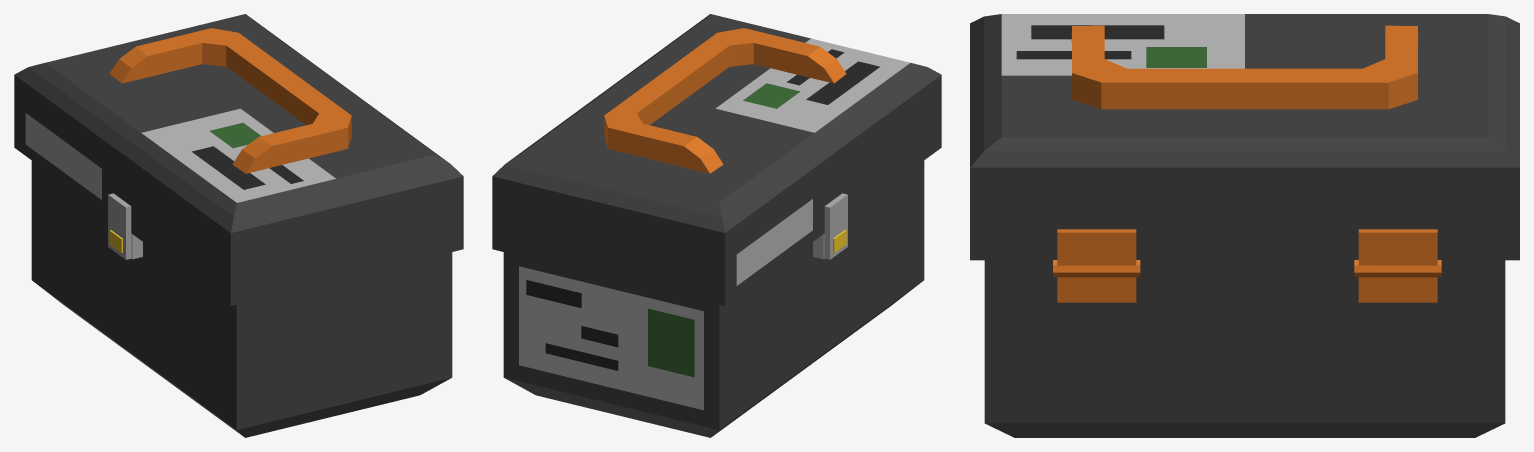
The model's file is SM_toolbox.gltf.
3 views of the same model, side by side, from view 1: azimuth 30°, elevation 25°; view 2: azimuth 150°, elevation 25°; view 3: azimuth 270°, elevation 25° (orthographic). The views are drawn at different scales.
Visible parts, largest first — view 1: SM_toolbox; view 2: SM_toolbox; view 3: SM_toolbox.
Boxes of the visible parts, left/top/right/bottom form: SM_toolbox: left=14, top=14, right=463, bottom=437; SM_toolbox: left=492, top=14, right=941, bottom=437; SM_toolbox: left=970, top=14, right=1519, bottom=437.
Bounding box in the file's own units: 0.3854 × 0.3924 × 0.5852.
Materials: 1 (1 with a texture image).
